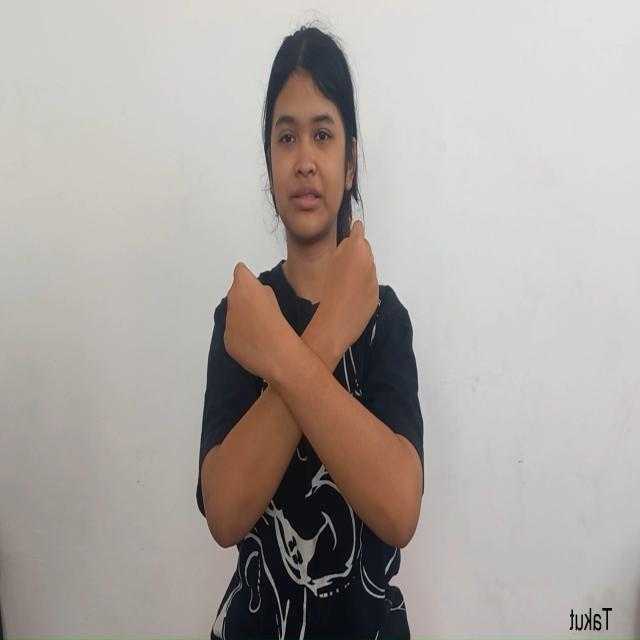Takut -BISINDO-: (218, 218, 405, 551)
